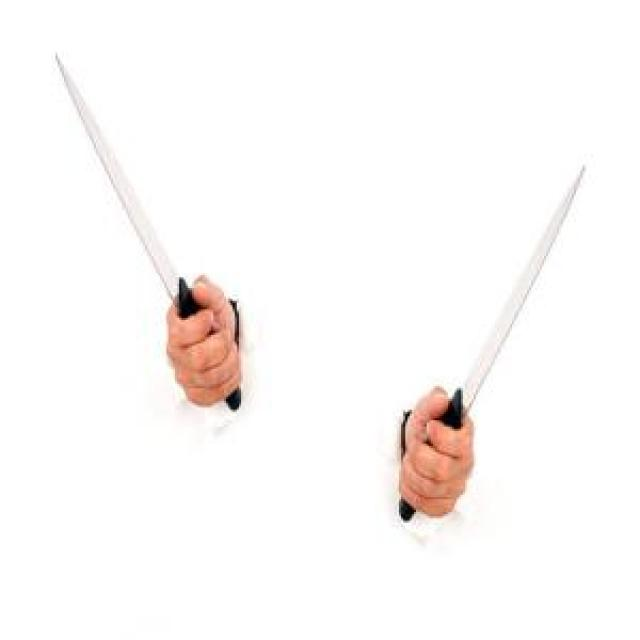knife: (394, 160, 586, 528), (56, 47, 244, 410)
